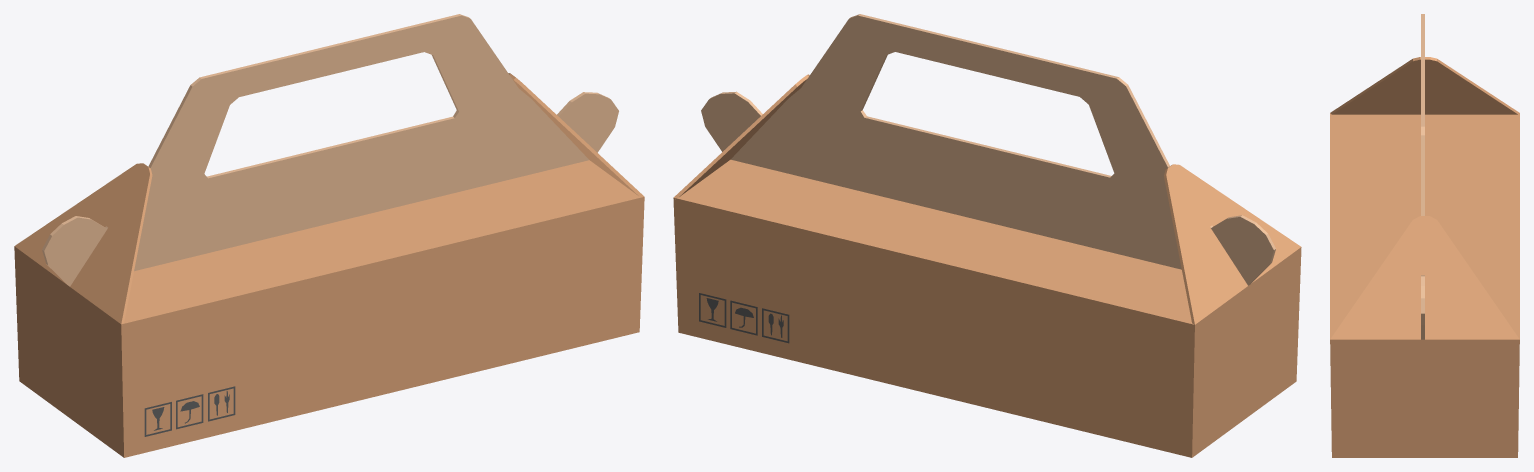
The model's file is SM_Boxes_01.fbx.
The picture shows the model from 3 angles, left to right: view 1: azimuth 30°, elevation 25°; view 2: azimuth 150°, elevation 25°; view 3: azimuth 270°, elevation 25°; orthographic projection. The views are drawn at different scales.
Parts seen in each view (by area): view 1: SM_Boxes_01; view 2: SM_Boxes_01; view 3: SM_Boxes_01.
Part boxes in pixels (<box>): SM_Boxes_01: <box>14,14,644,457</box>; SM_Boxes_01: <box>673,14,1301,457</box>; SM_Boxes_01: <box>1330,14,1519,457</box>.
Bounding box in the file's own units: 17.23 × 8.91 × 5.55.
